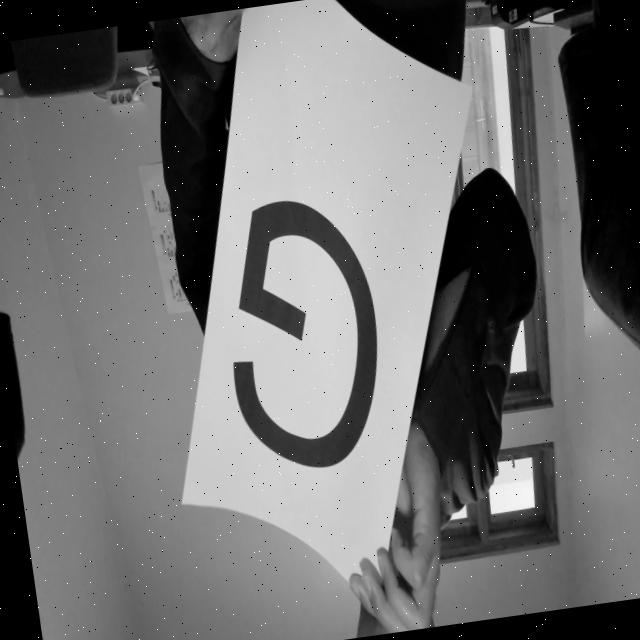g: (200, 163, 406, 491)
